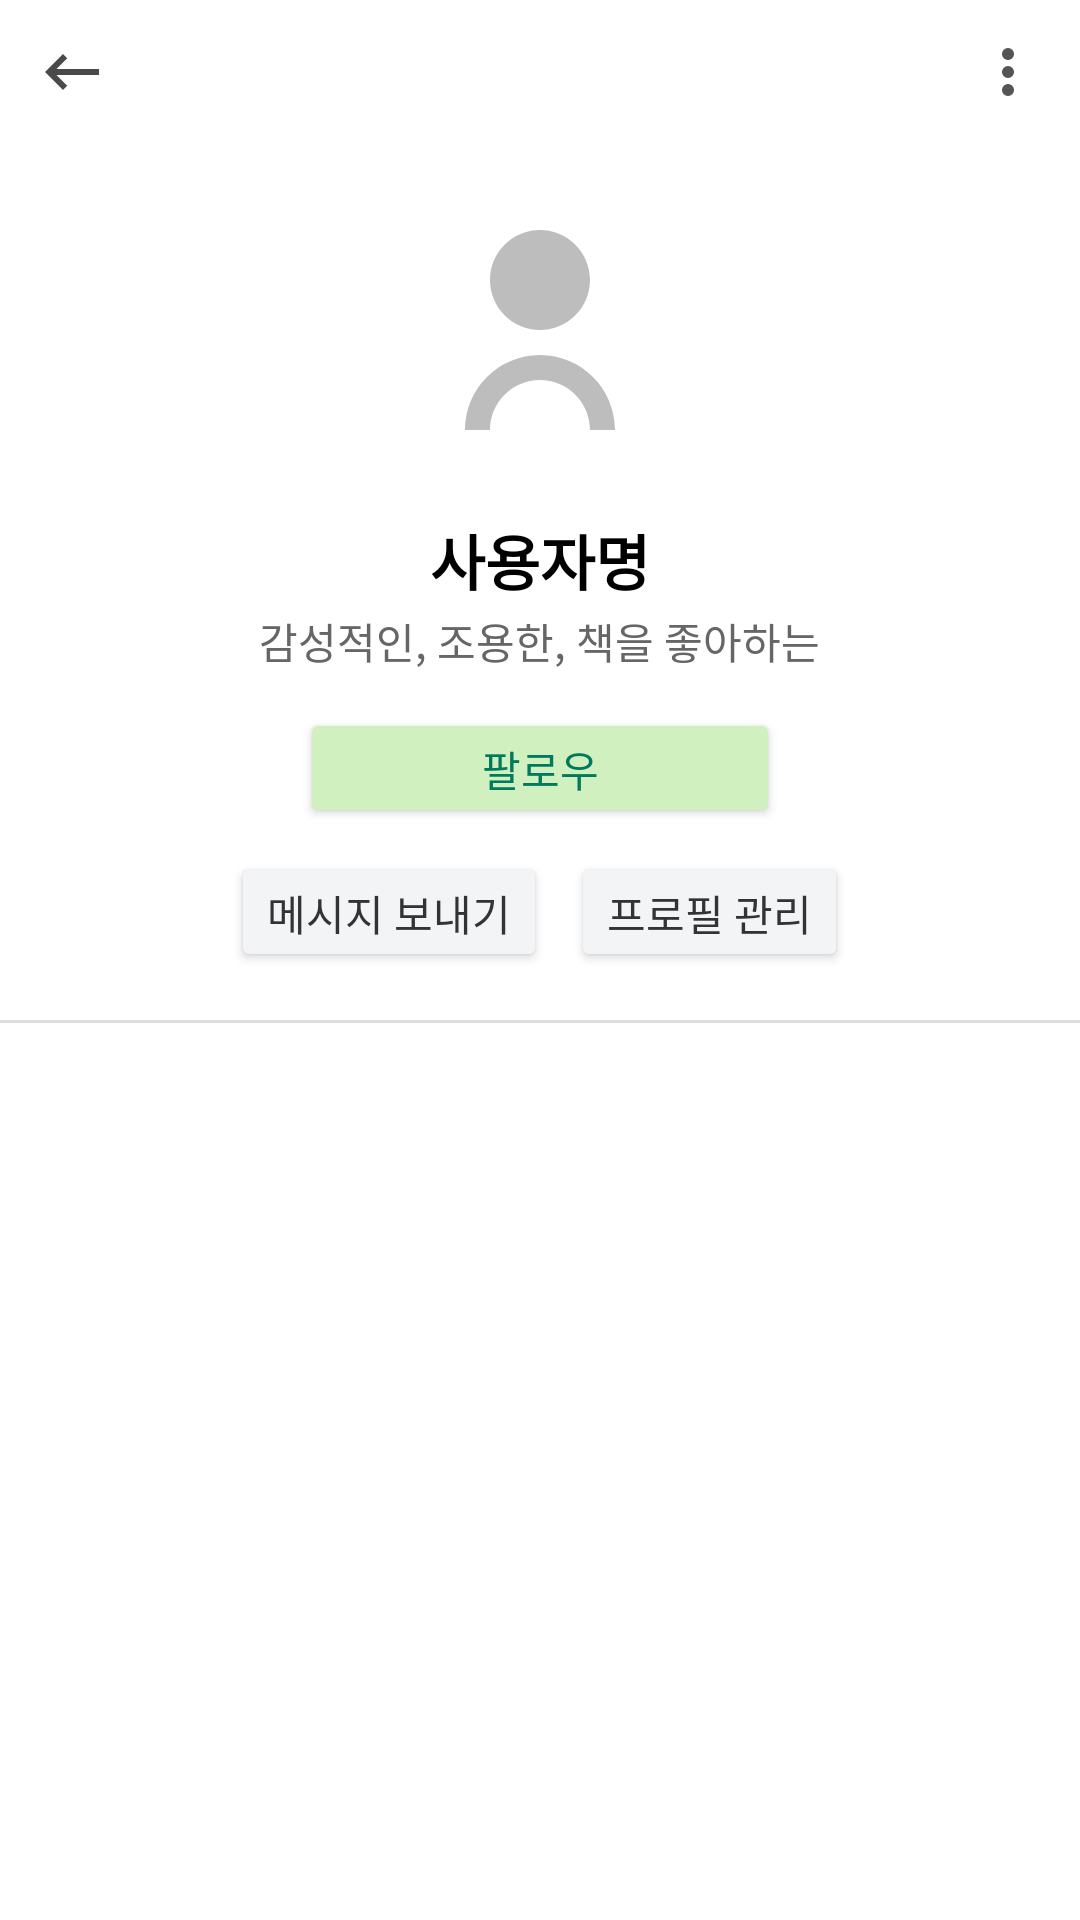

Where to tap for icons on this 1080x1920 app screen, as [x,y]:
back: [72,72]
more vert: [1008,72]
